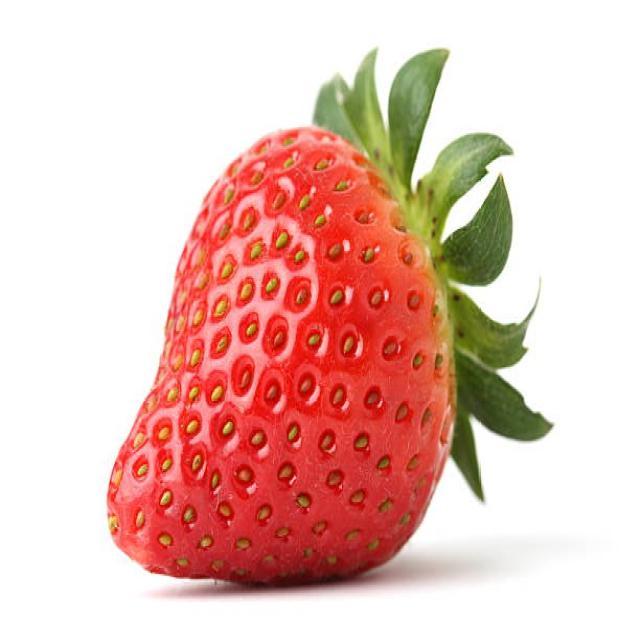Healthy Fruit: (106, 126, 455, 587)
